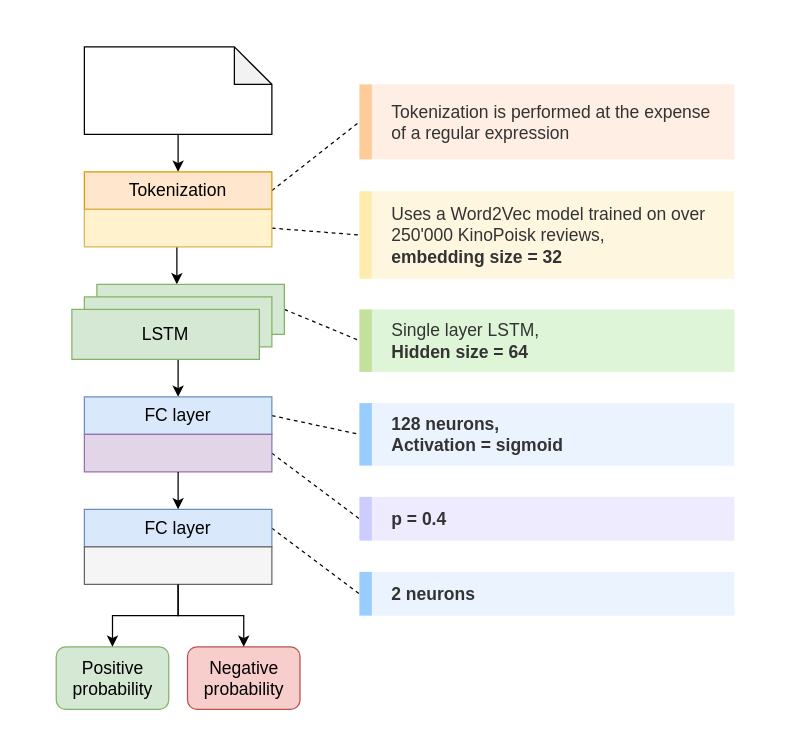
Some shapes in this 793 by 755 pixel diagram are drawn without their labels. The shapes that lost their labels are listed below. From the top down, each one's centre as x and y in pixels, then its label:
At pixel 177 90: "Review text".
At pixel 177 227: "Embedding".
At pixel 177 452: "Dropout".
At pixel 177 565: "Softmax".
